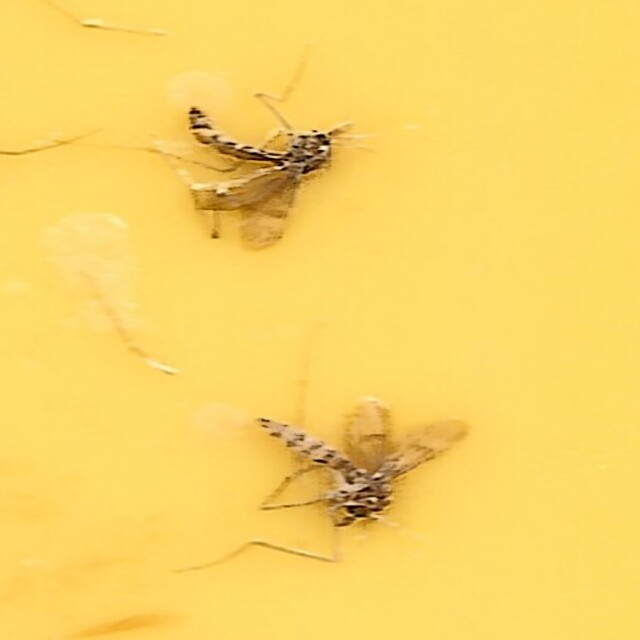Nematocera: (247, 392, 482, 538), (158, 102, 359, 245)
